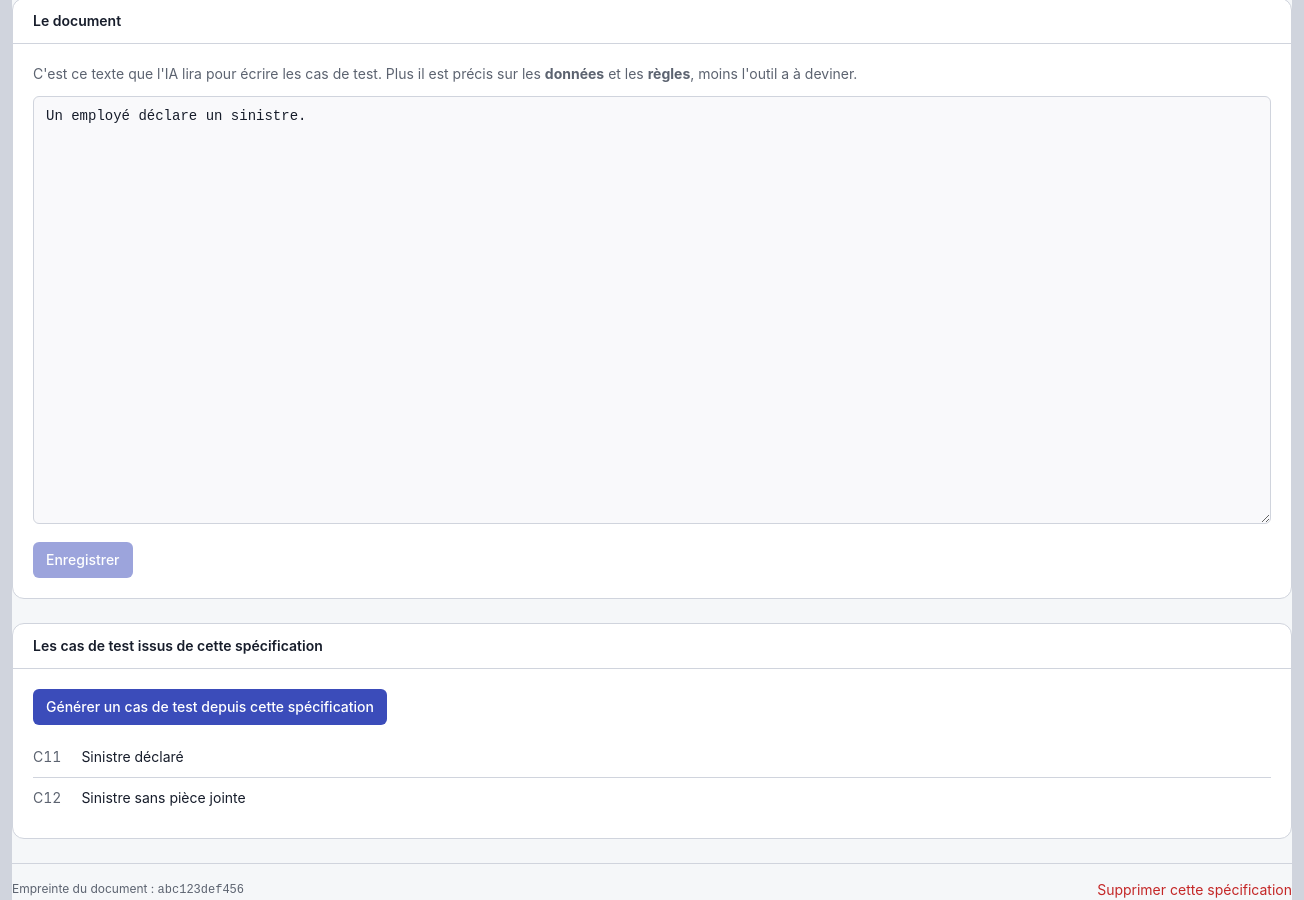
Scenario: la fiche de la spécification › affiche le refus de suppression TEL QUEL — il dit combien de cas bloquent
(page scrolled)
Click the button "Supprimer cette spécification": click(1195, 890) 1097,880 -> 1292,899
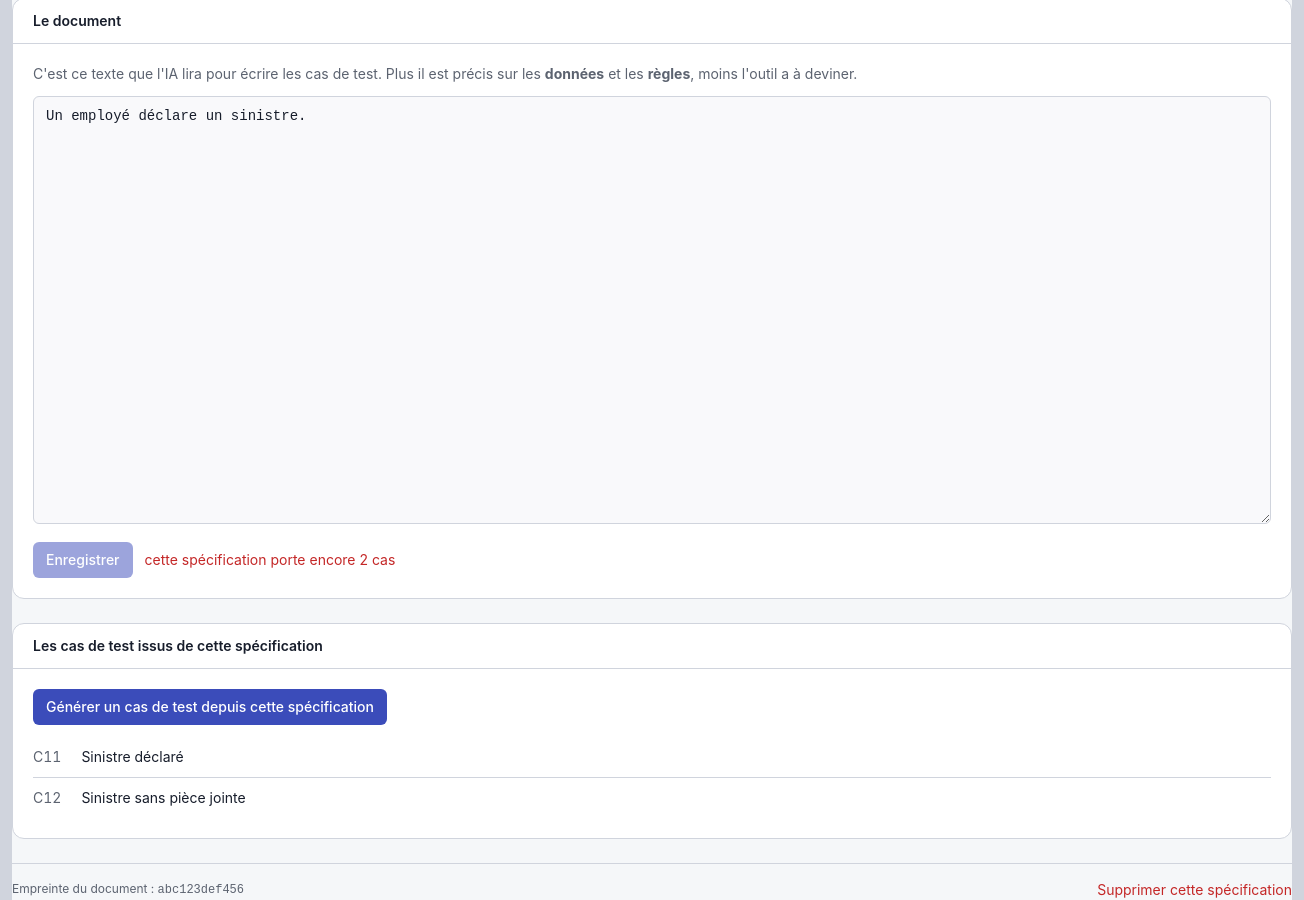
Expected: the text "porte encore 2 cas" is shown, 144,550 -> 395,568
